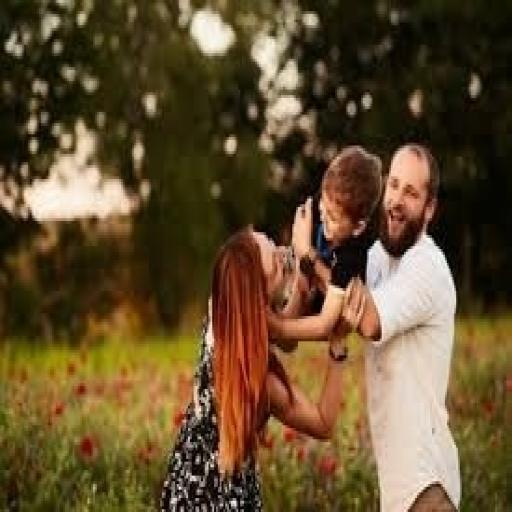hugging: (156, 224, 360, 509), (339, 140, 463, 509)
